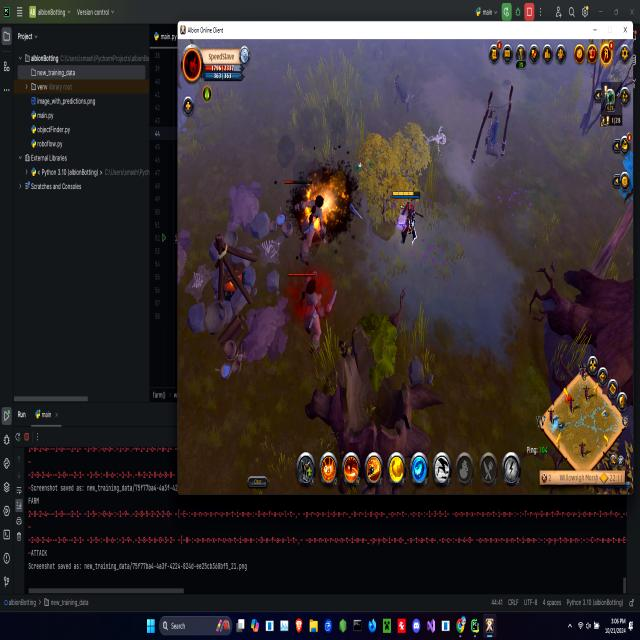hide: (355, 154, 378, 184)
ore: (286, 268, 340, 360), (282, 173, 332, 265), (392, 69, 422, 124)
red: (390, 184, 423, 253)
wisp caged: (594, 154, 634, 279)
